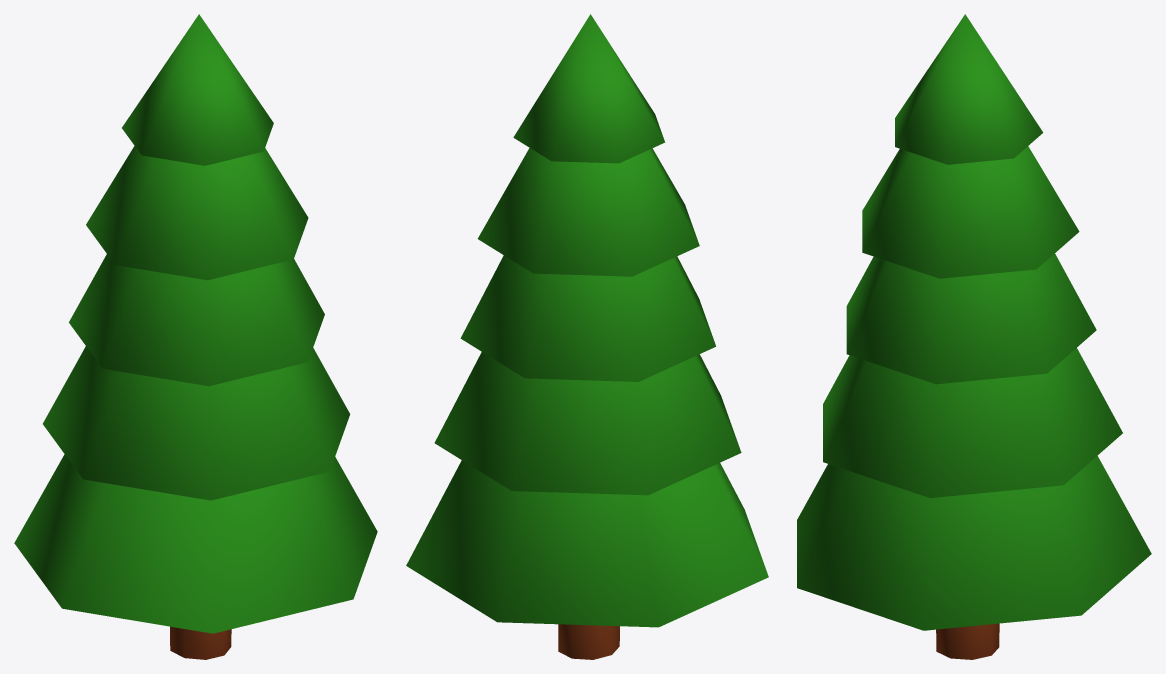
The model's file is tree.fbx.
3 views of the same model, side by side, from view 1: azimuth 30°, elevation 25°; view 2: azimuth 150°, elevation 25°; view 3: azimuth 270°, elevation 25° (orthographic).
Visible parts, largest first — view 1: tree.002; view 2: tree.002; view 3: tree.002.
Boxes of the visible parts, x1=… form: tree.002: x1=14, y1=14, x2=377, y2=659; tree.002: x1=406, y1=14, x2=768, y2=659; tree.002: x1=797, y1=14, x2=1151, y2=659.
Bounding box in the file's own units: 845 × 1621 × 824.
